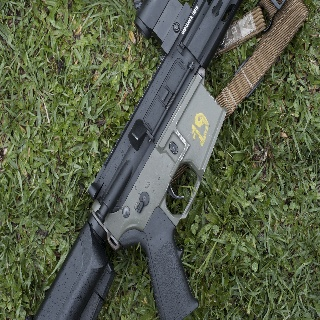rifle: (31, 1, 229, 320)
